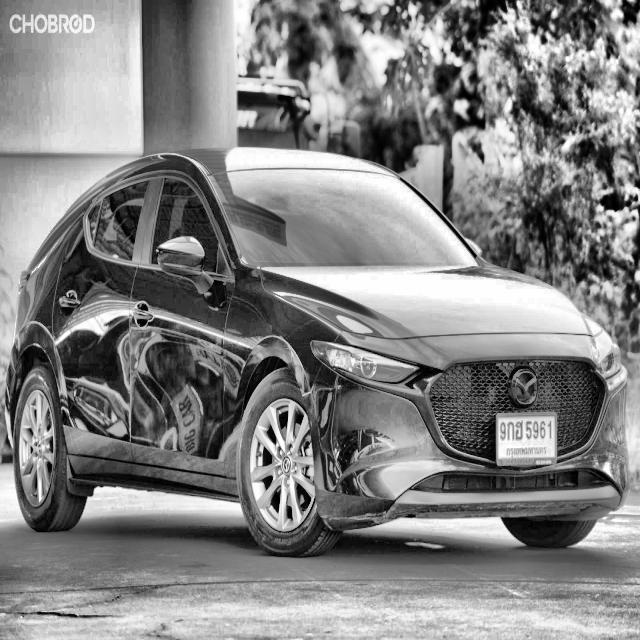license-plate: (495, 409, 558, 467)
